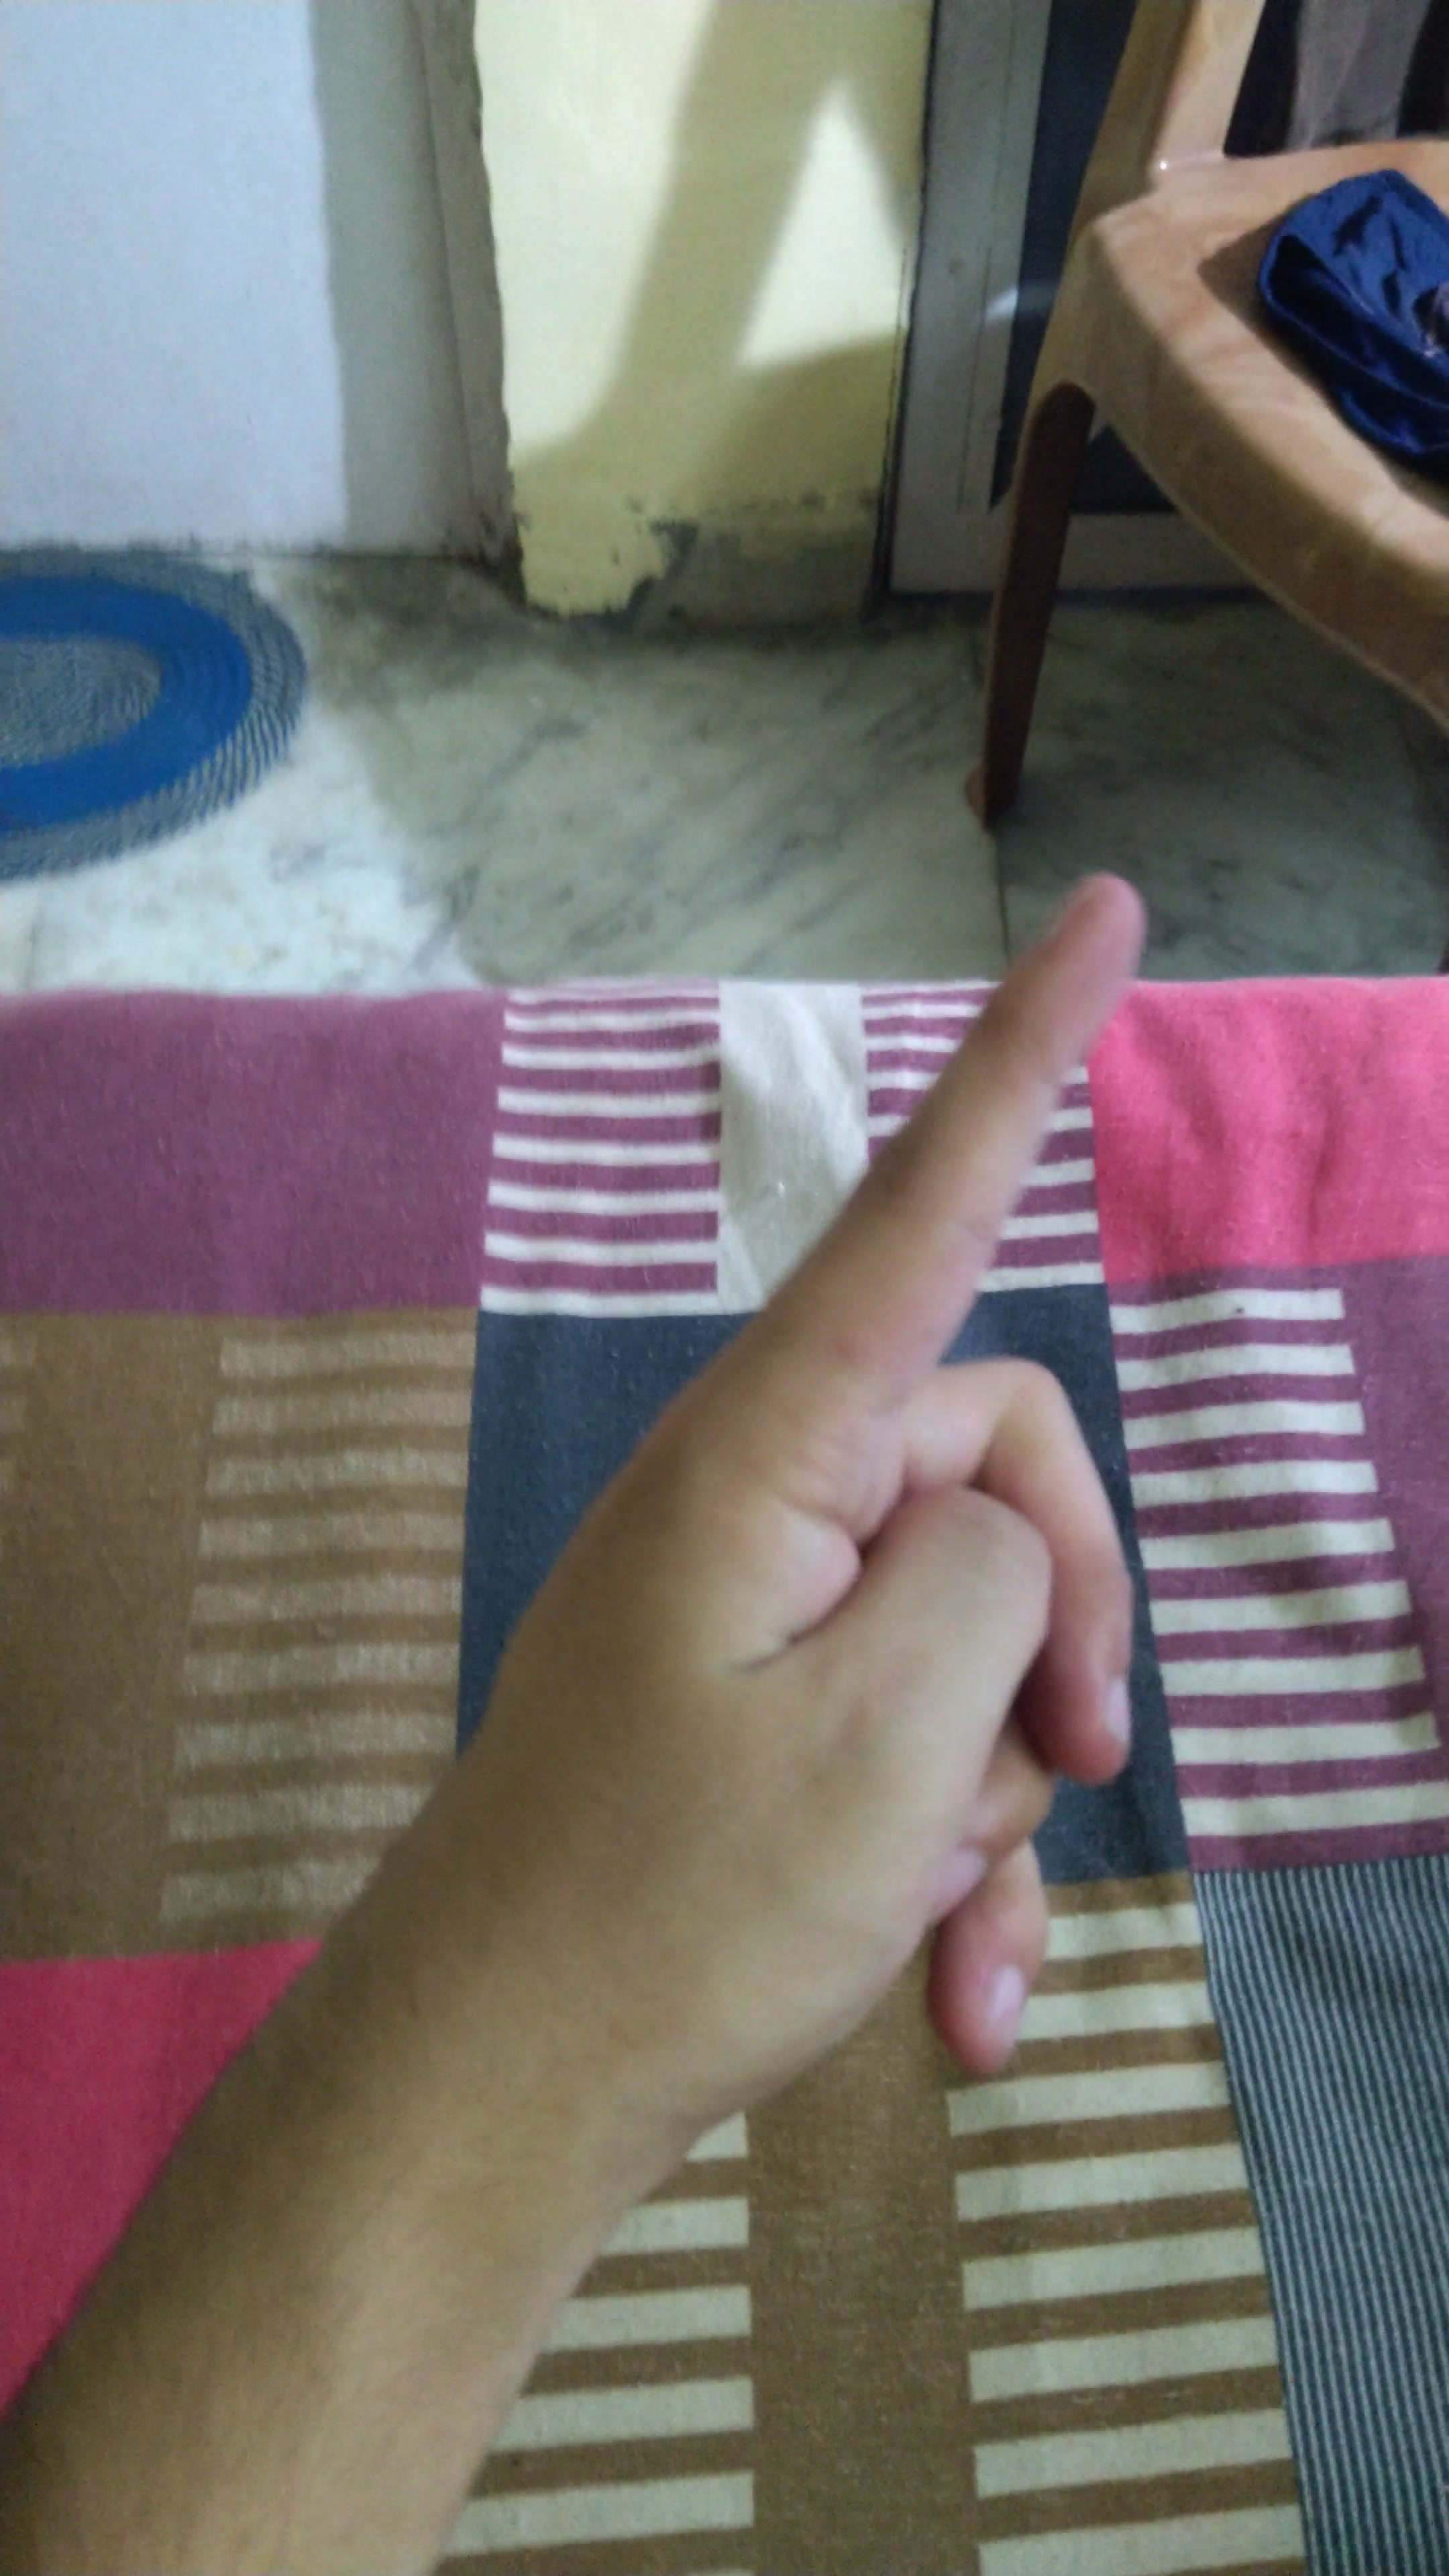hand: (375, 849, 1221, 2132)
